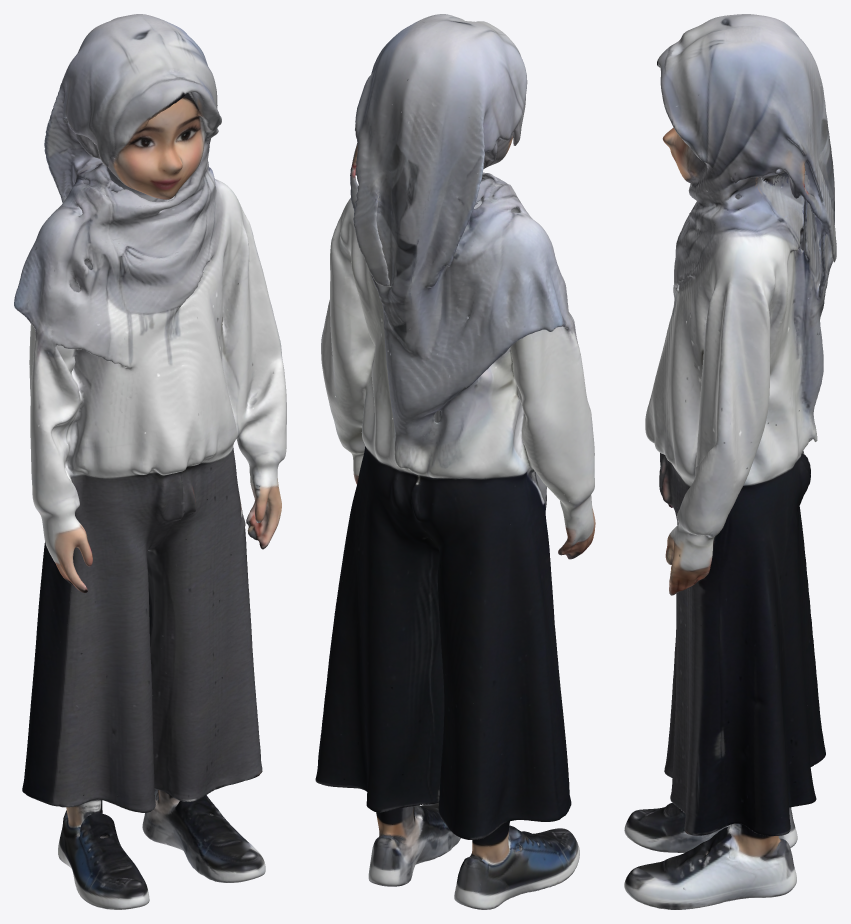
Rendered from kid.glb.
3 views of the same model, side by side, from view 1: azimuth 30°, elevation 25°; view 2: azimuth 150°, elevation 25°; view 3: azimuth 270°, elevation 25° (orthographic). The views are drawn at different scales.
Parts seen in each view (by area): view 1: Object_5, Object_4, Object_6, Object_7, Object_8; view 2: Object_7, Object_6, Object_5, Object_4, Object_8; view 3: Object_4, Object_7, Object_5, Object_6, Object_8.
Boxes of the visible parts, x1,y1,x2,y2 form: Object_5: [22, 229, 284, 812]; Object_4: [14, 14, 286, 574]; Object_6: [23, 34, 265, 909]; Object_7: [14, 52, 180, 868]; Object_8: [33, 14, 230, 909]; Object_7: [315, 56, 566, 909]; Object_6: [333, 48, 594, 909]; Object_5: [315, 260, 595, 837]; Object_4: [321, 14, 575, 528]; Object_8: [346, 19, 579, 889]; Object_4: [645, 14, 807, 577]; Object_7: [732, 159, 836, 898]; Object_5: [645, 203, 786, 835]; Object_6: [624, 25, 836, 909]; Object_8: [732, 14, 834, 268].
Size of the model in its own units: 0.6374 by 2 by 0.4536.
1 material, 1 textured.
